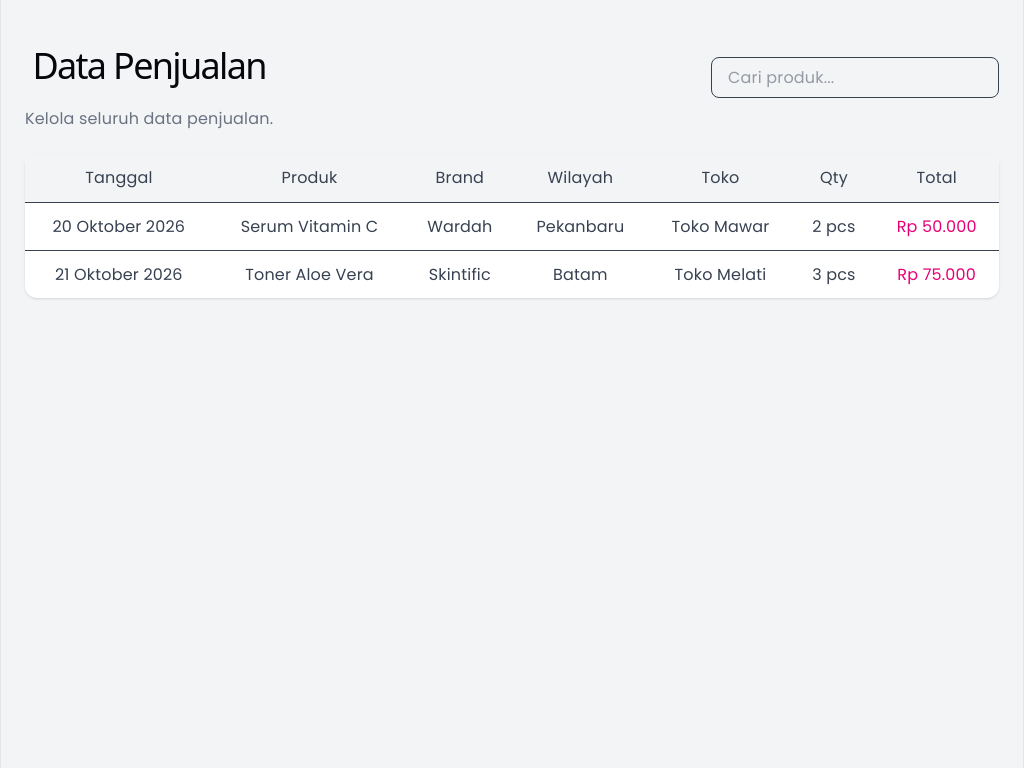
Test case: White Box Testing - Data Penjualan HEBEPKU › WB-DP07 - mencari data berdasarkan nama toko dan brand
This screenshot has width=1024, height=768.
Type "Mawar" into the field with placeholder "Cari produk...".
click(855, 77); type("Mawar")  # box [711,57,999,98]
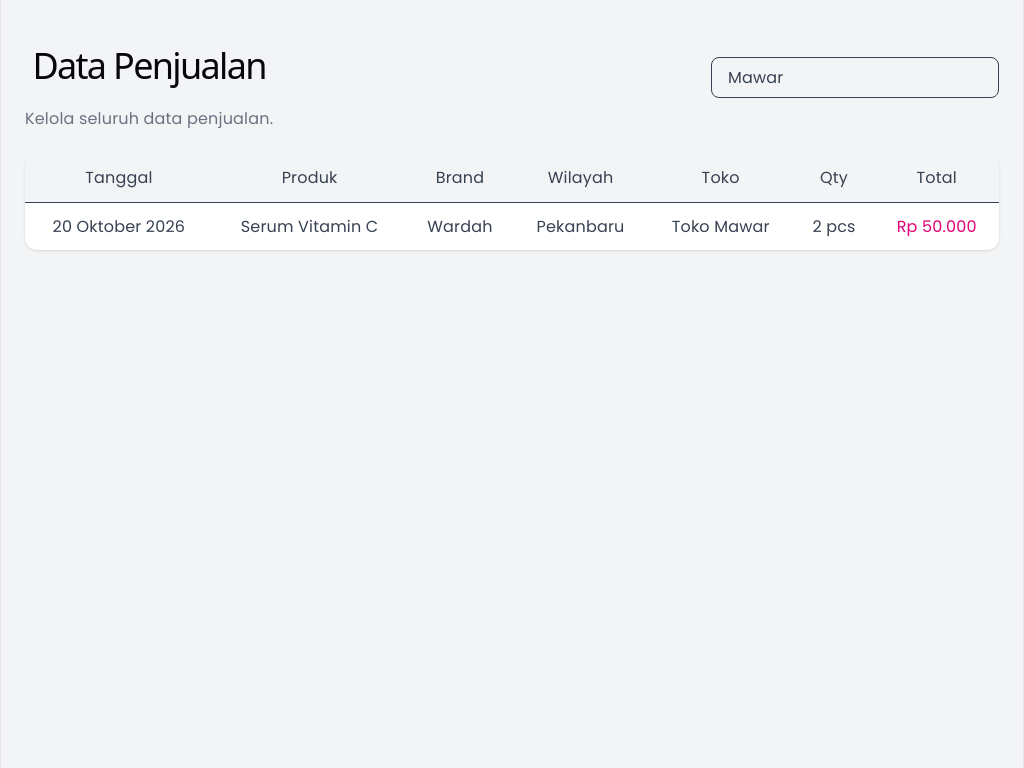
Expected: the text "Serum Vitamin C" is shown, [213,202,406,250]
Now the text "Toner Aloe Vera" is gone
Replace the text in the field with placeholder "Cari produk..." with "Skintific" at x=855, y=77, box [711,57,999,98]
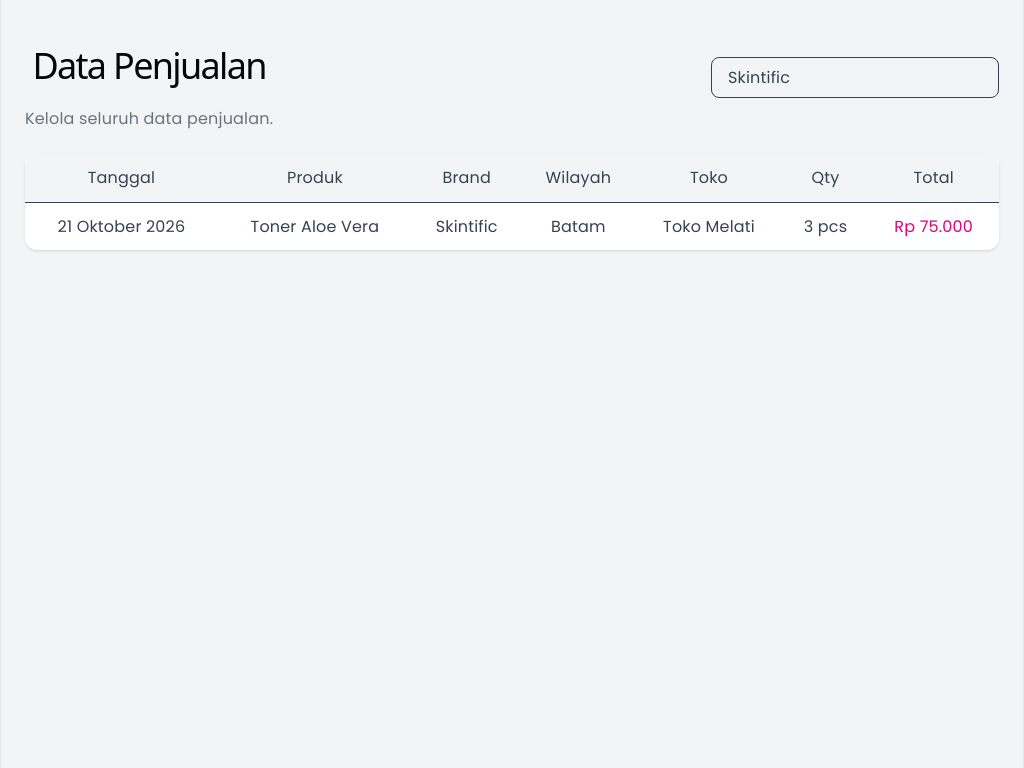
Now the text "Toner Aloe Vera" is shown, box [218,202,412,250]
Now the text "Serum Vitamin C" is gone
